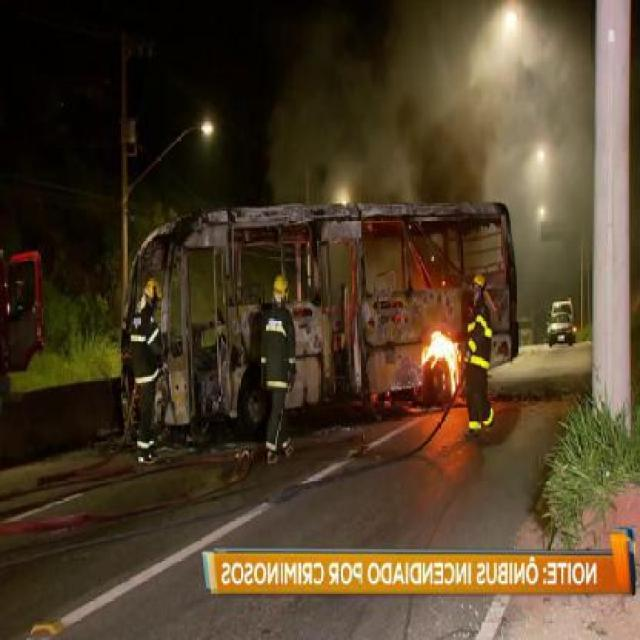Fire: (419, 330, 456, 368), (448, 372, 462, 394)
Smoke: (265, 62, 498, 202)
